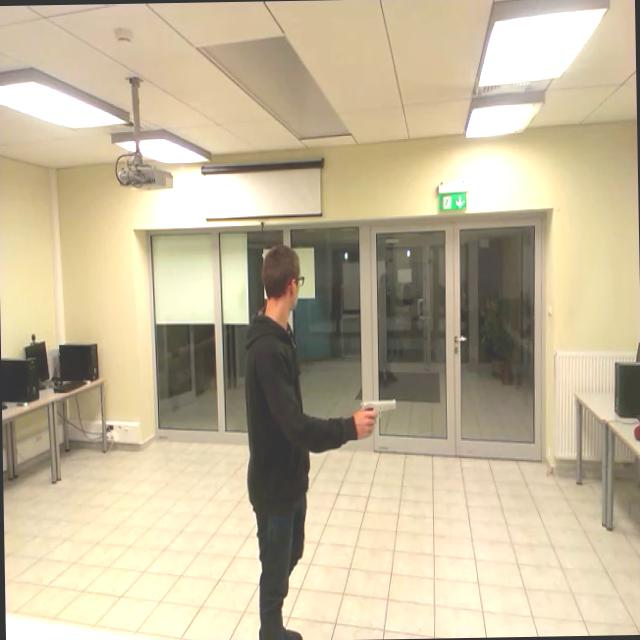handgun: (358, 389, 398, 448)
